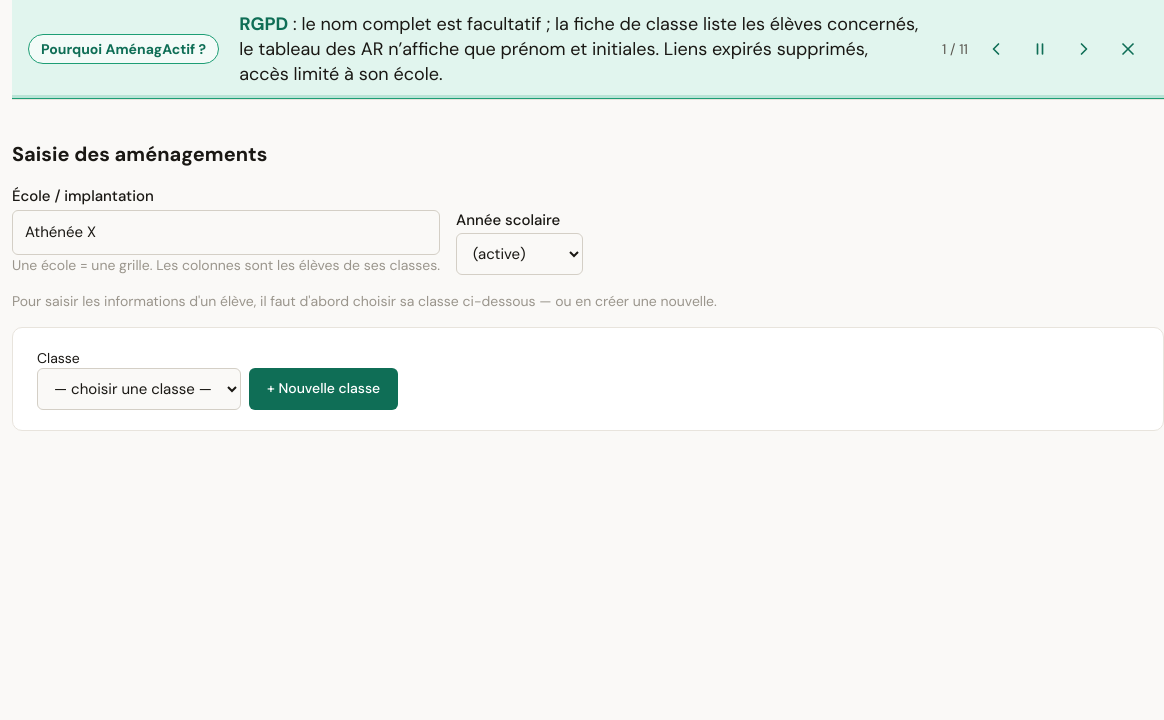
Scenario: SaisieEcole : dispositifs › (b) mode AU : la carte apparaît et le chapitre quitte la grille
Step 1. Select "5LA — 5e" in the dropdown labelled "Classe" → x=139, y=389, box [37,368,241,410]
(page scrolled)
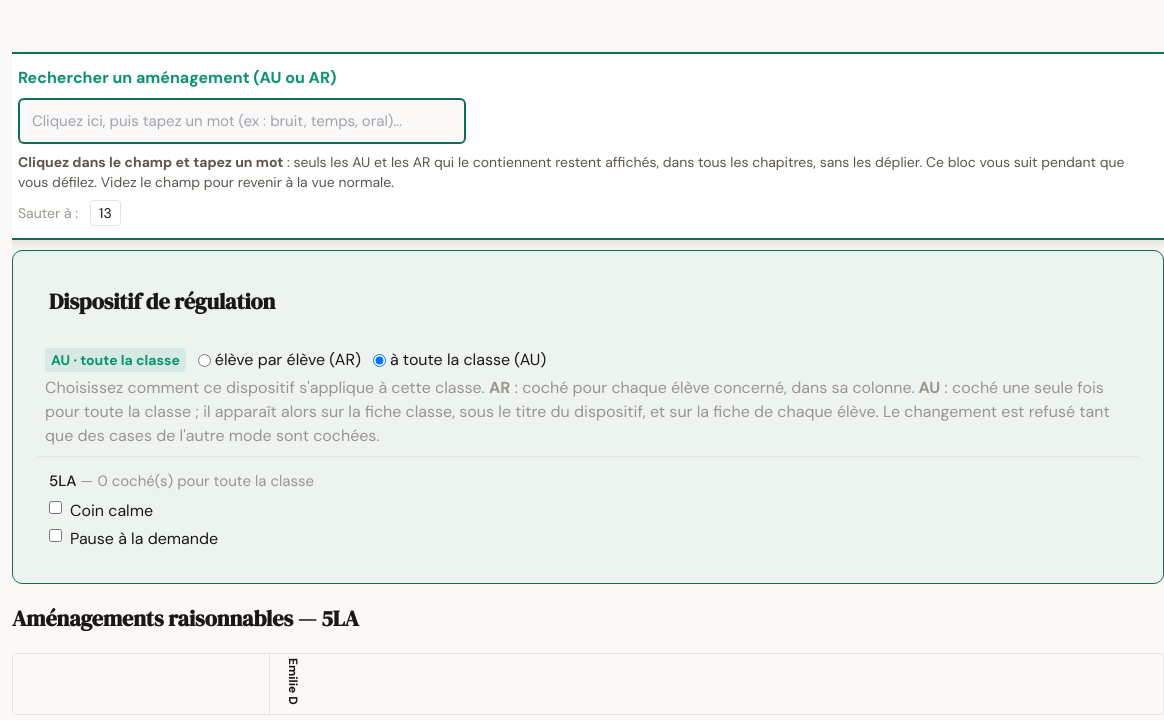
Check: the text "AU · toute la classe" is shown, box [45,348,186,372]
